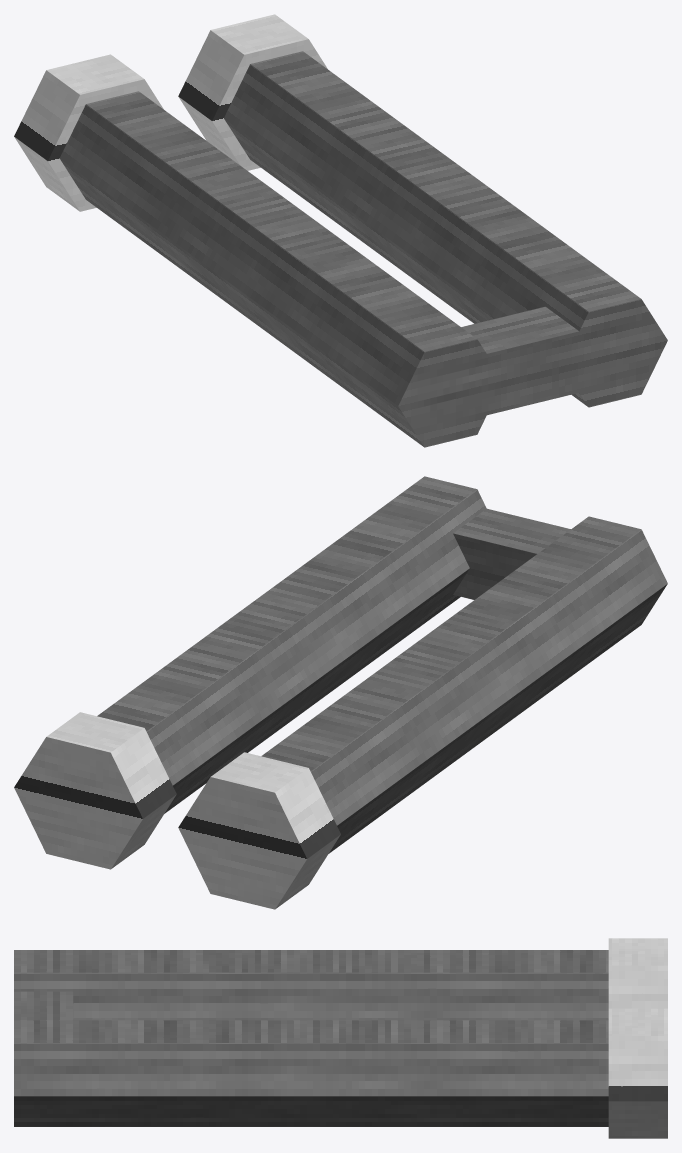
File: twin_barrel_port_aphelion.glb
3 views of the same model, one above another, from view 1: azimuth 30°, elevation 25°; view 2: azimuth 150°, elevation 25°; view 3: azimuth 270°, elevation 25° (orthographic). The views are drawn at different scales.
Parts seen in each view (by area): view 1: barrel, barrel.001, brace, muzzle, muzzle.001; view 2: barrel, barrel.001, muzzle, muzzle.001, brace; view 3: barrel.001, barrel, muzzle.001, muzzle, brace.
Boxes of the visible parts, x1,y1,x2,y2 form: barrel: [59, 91, 503, 447]; barrel.001: [224, 51, 667, 407]; brace: [415, 306, 610, 432]; muzzle: [14, 54, 163, 211]; muzzle.001: [178, 14, 327, 170]; barrel: [261, 516, 667, 853]; barrel.001: [97, 476, 486, 813]; muzzle: [178, 752, 340, 909]; muzzle.001: [14, 712, 176, 869]; brace: [453, 508, 570, 599]; barrel.001: [14, 1020, 608, 1126]; barrel: [14, 950, 608, 1020]; muzzle.001: [608, 1008, 667, 1138]; muzzle: [608, 938, 667, 1008]; brace: [14, 991, 73, 1020].
Size of the model in its own units: 10 by 3.81 by 22.
Materials: 2 (2 with a texture image).
